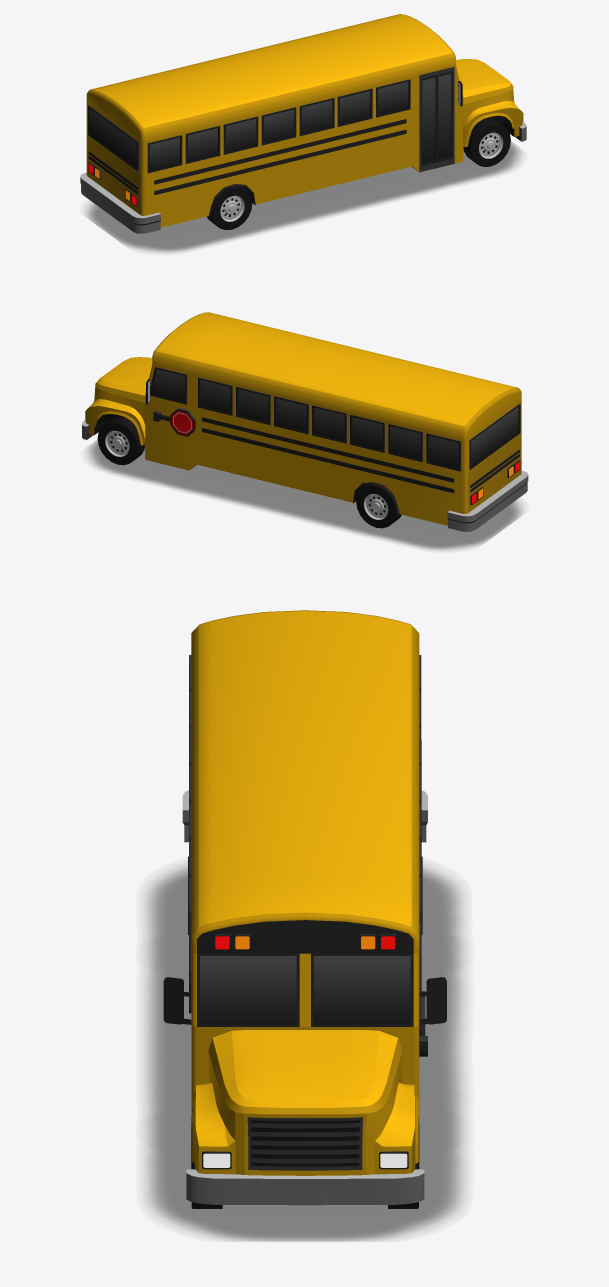
The picture shows the model from 3 angles, top to bottom: view 1: azimuth 30°, elevation 25°; view 2: azimuth 150°, elevation 25°; view 3: azimuth 270°, elevation 25°; orthographic projection. The views are drawn at different scales.
Visible parts, largest first — view 1: ARCADE_UVP_ColorVar1_Material.001_0_Ext, Shadow; view 2: ARCADE_UVP_ColorVar1_Material.001_0_Ext, Shadow; view 3: ARCADE_UVP_ColorVar1_Material.001_0_Ext, Shadow.
Part boxes in pixels (<box>): ARCADE_UVP_ColorVar1_Material.001_0_Ext: <box>80,14,526,233</box>; Shadow: <box>86,141,520,252</box>; ARCADE_UVP_ColorVar1_Material.001_0_Ext: <box>82,312,528,531</box>; Shadow: <box>87,440,522,549</box>; ARCADE_UVP_ColorVar1_Material.001_0_Ext: <box>163,610,446,1208</box>; Shadow: <box>145,865,464,1241</box>.
Size of the model in its own units: 9.24 by 2.47 by 4.2.
3 materials, 3 textured.
